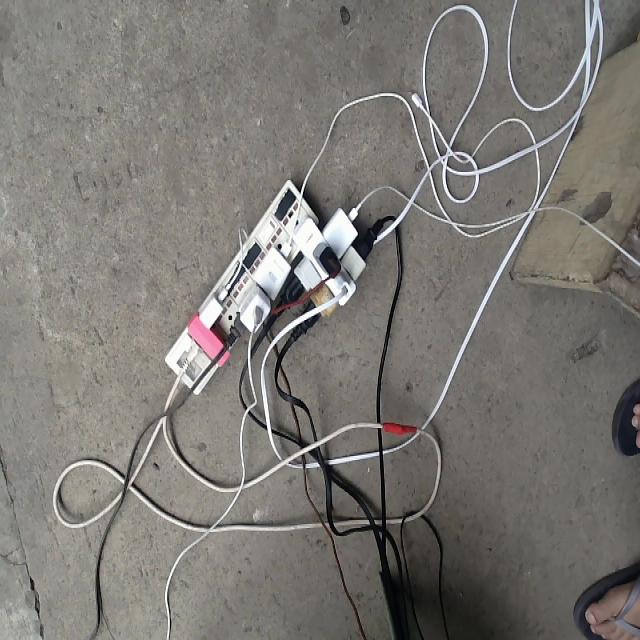-: (165, 177, 384, 387)
